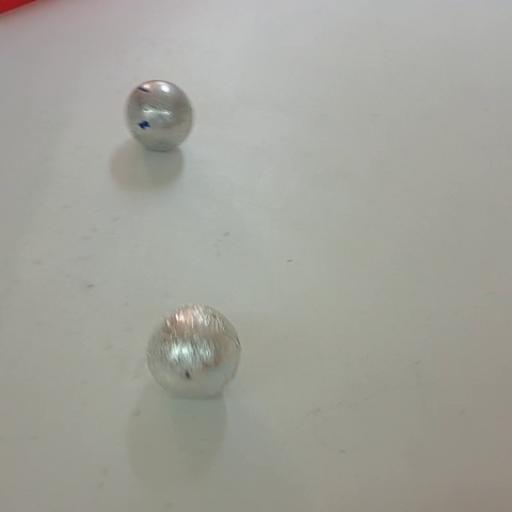alive: (144, 304, 244, 400), (125, 80, 195, 152)
